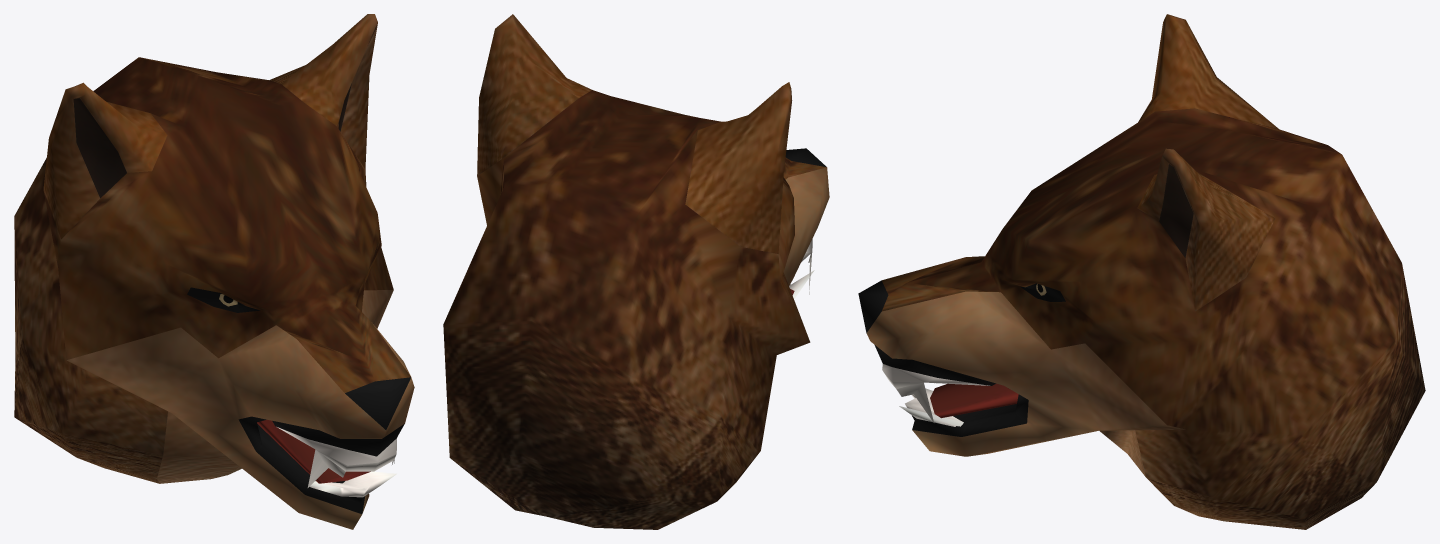
The model's file is WTAGarou_CrinosHead.glb.
3 renders of one model, left to right at view 1: azimuth 30°, elevation 25°; view 2: azimuth 150°, elevation 25°; view 3: azimuth 270°, elevation 25°, orthographic. The views are drawn at different scales.
Parts seen in each view (by area): view 1: Wolf.002; view 2: Wolf.002; view 3: Wolf.002.
Boxes of the visible parts, left/top/right/bottom form: Wolf.002: left=14, top=14, right=414, bottom=529; Wolf.002: left=443, top=14, right=829, bottom=529; Wolf.002: left=858, top=14, right=1425, bottom=529.
Bounding box in the file's own units: 0.2157 × 0.283 × 0.3381.
1 material, 1 textured.
